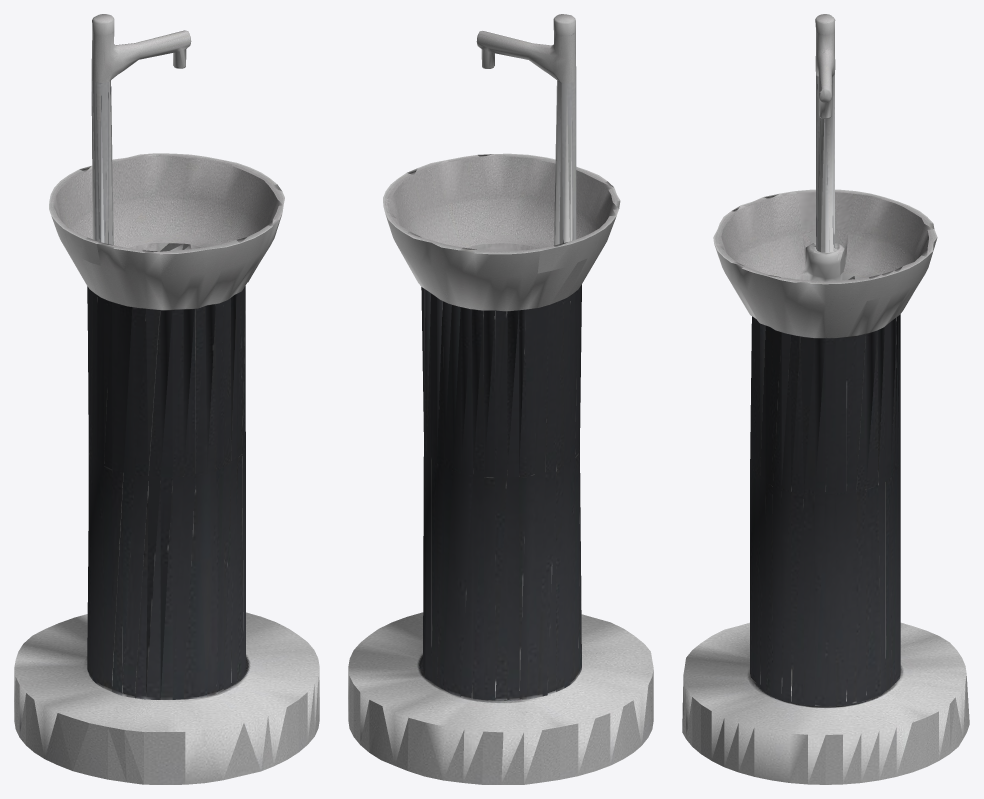
File: drinking_fountain.glb
3 renders of one model, left to right at view 1: azimuth 30°, elevation 25°; view 2: azimuth 150°, elevation 25°; view 3: azimuth 270°, elevation 25°, orthographic. The views are drawn at different scales.
Parts seen in each view (by area): view 1: drinking_fountain_lod0; view 2: drinking_fountain_lod0; view 3: drinking_fountain_lod0.
Boxes of the visible parts, x1,y1,x2,y2 form: drinking_fountain_lod0: (14, 14, 319, 784); drinking_fountain_lod0: (348, 14, 653, 784); drinking_fountain_lod0: (682, 14, 969, 784).
Size of what is drawn, in the model's own units: 0.3866 by 1 by 0.385.
Materials: 1 (1 with a texture image).
